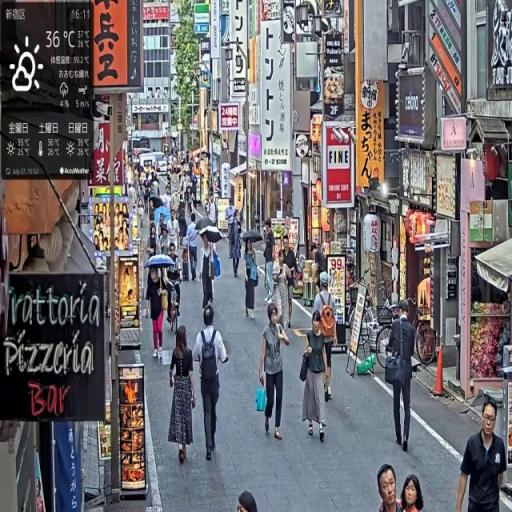person: (455, 397, 509, 512), (195, 305, 232, 462), (385, 300, 419, 455), (259, 303, 292, 444), (300, 311, 332, 442), (168, 327, 197, 467), (311, 273, 337, 403), (148, 264, 172, 364), (199, 231, 222, 320), (244, 239, 261, 322), (263, 219, 279, 304), (186, 216, 200, 285)
